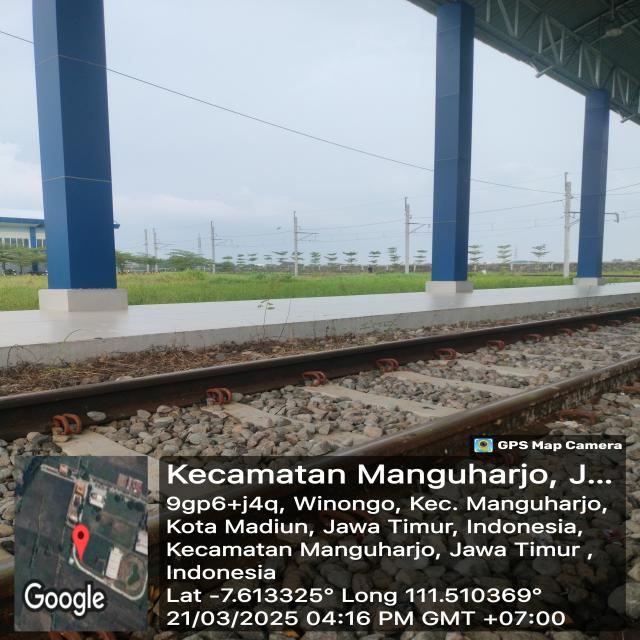rail-detection: (0, 307, 640, 440), (330, 354, 640, 461)
